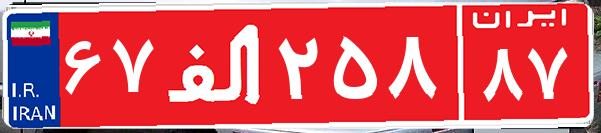2: (273, 28, 330, 110)
5: (330, 28, 385, 110)
6: (57, 26, 110, 107)
7: (110, 28, 158, 105), (525, 38, 570, 115)
8: (385, 28, 445, 110), (475, 38, 525, 113)
الف: (158, 15, 273, 115)
